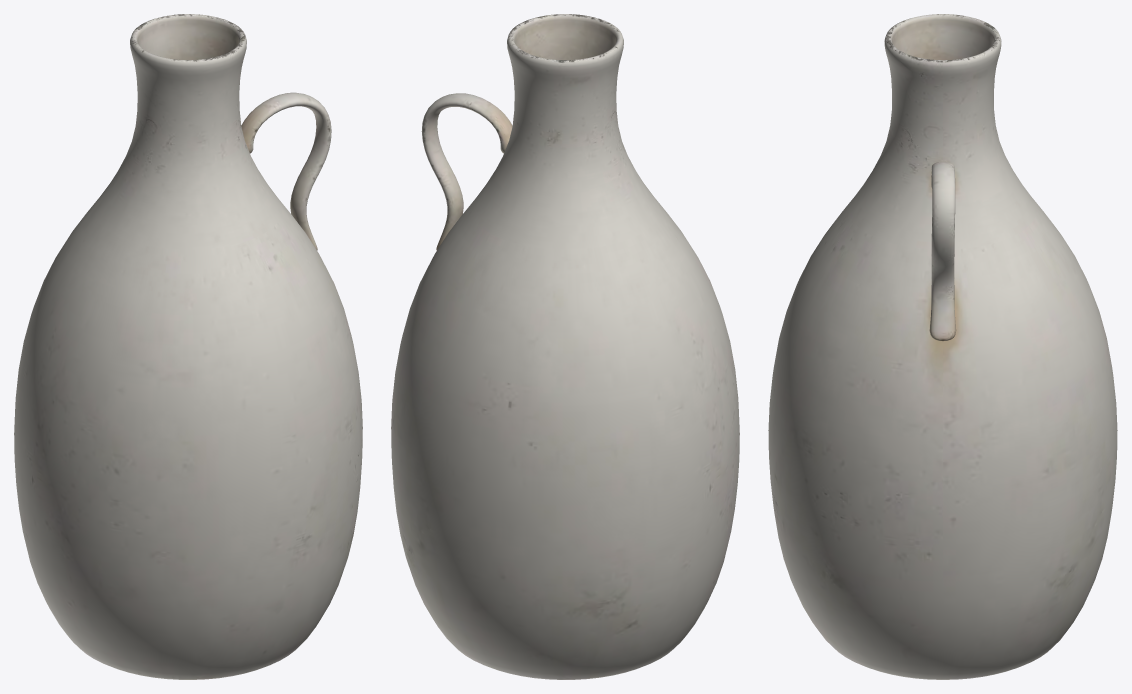
Rendered from ceramic_vase_04.glb.
3 renders of one model, left to right at view 1: azimuth 30°, elevation 25°; view 2: azimuth 150°, elevation 25°; view 3: azimuth 270°, elevation 25°, orthographic.
Visible parts, largest first — view 1: ceramic_vase_04; view 2: ceramic_vase_04; view 3: ceramic_vase_04.
Boxes of the visible parts, left/top/right/bottom form: ceramic_vase_04: left=14, top=14, right=362, bottom=679; ceramic_vase_04: left=391, top=14, right=739, bottom=679; ceramic_vase_04: left=768, top=14, right=1117, bottom=679.
Bounding box in the file's own units: 0.1811 × 0.3419 × 0.1811.
Materials: 1 (1 with a texture image).
